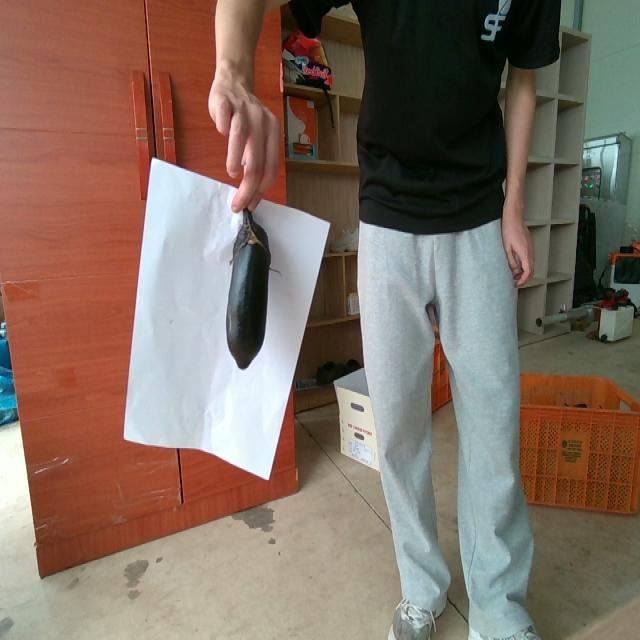Egg plant: (226, 208, 270, 368)
